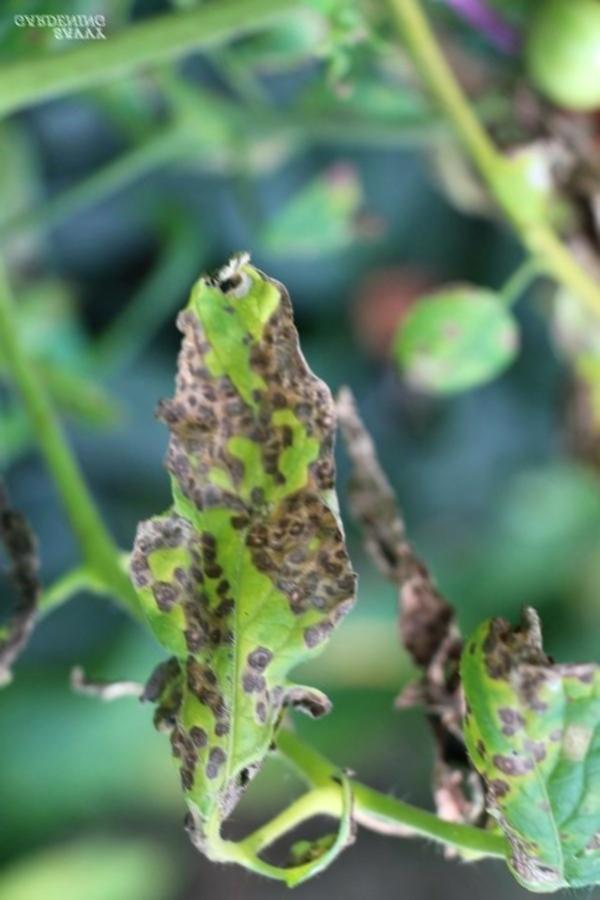Tomato leaf bacterial spot: (130, 240, 373, 836), (442, 601, 598, 887)
